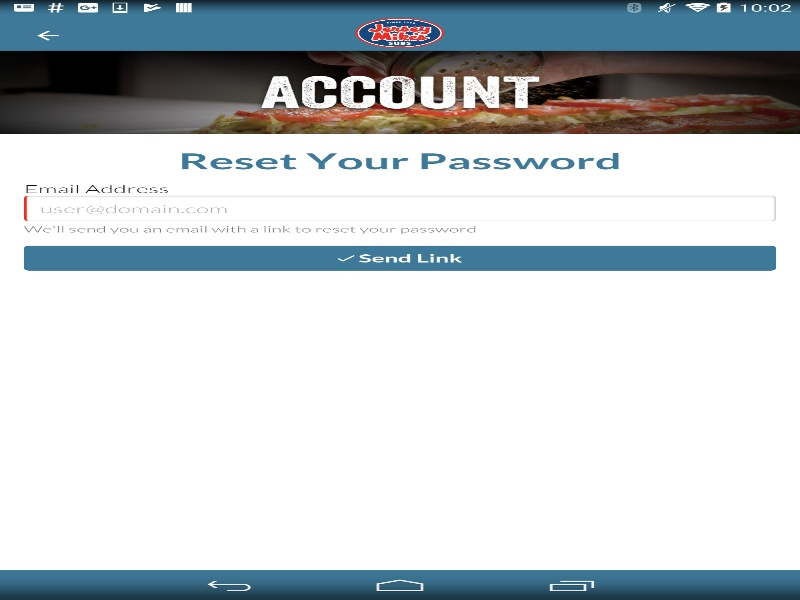Button: (24, 245, 777, 271), (10, 18, 85, 53)
Input: (24, 195, 777, 221)
